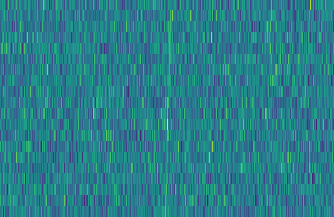signal: (160, 0, 175, 217)
